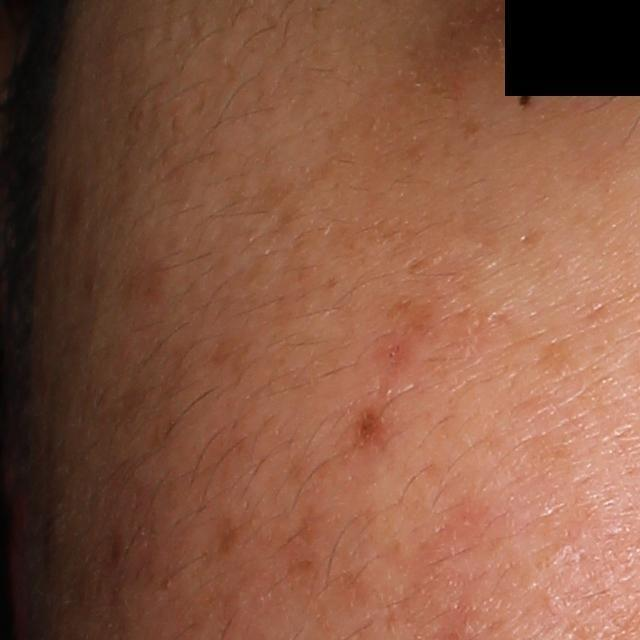nevus: (516, 89, 538, 112)
